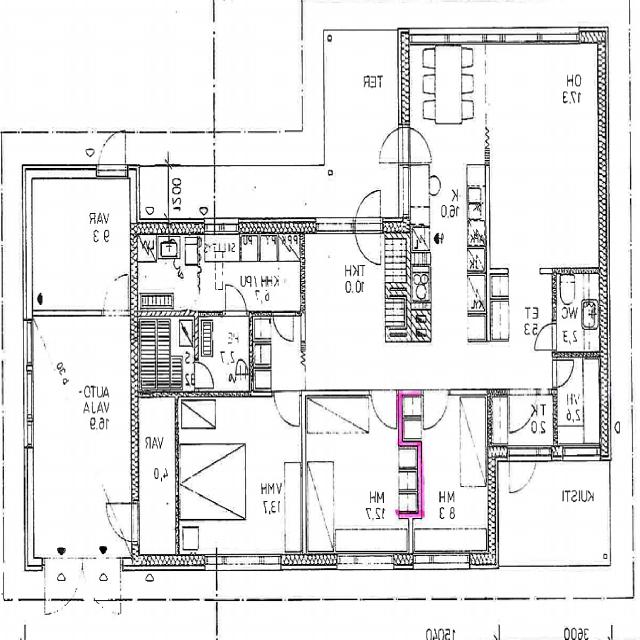door: (83, 555, 124, 624), (43, 555, 83, 624), (99, 501, 140, 545), (508, 445, 537, 501), (97, 125, 126, 178), (354, 220, 382, 274), (354, 182, 382, 236), (398, 125, 436, 162), (372, 125, 409, 162), (510, 386, 538, 434), (371, 386, 396, 429), (103, 273, 129, 314), (274, 386, 299, 428), (425, 386, 449, 427), (273, 310, 295, 346), (226, 280, 247, 315), (533, 322, 557, 350), (194, 358, 217, 384), (553, 360, 575, 386)
